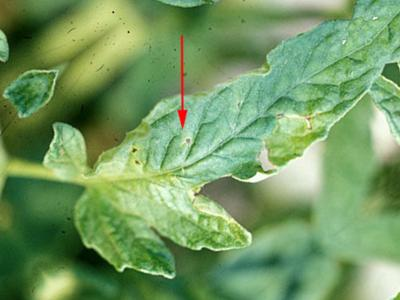Tomato leaf bacterial spot: (38, 0, 400, 300)
